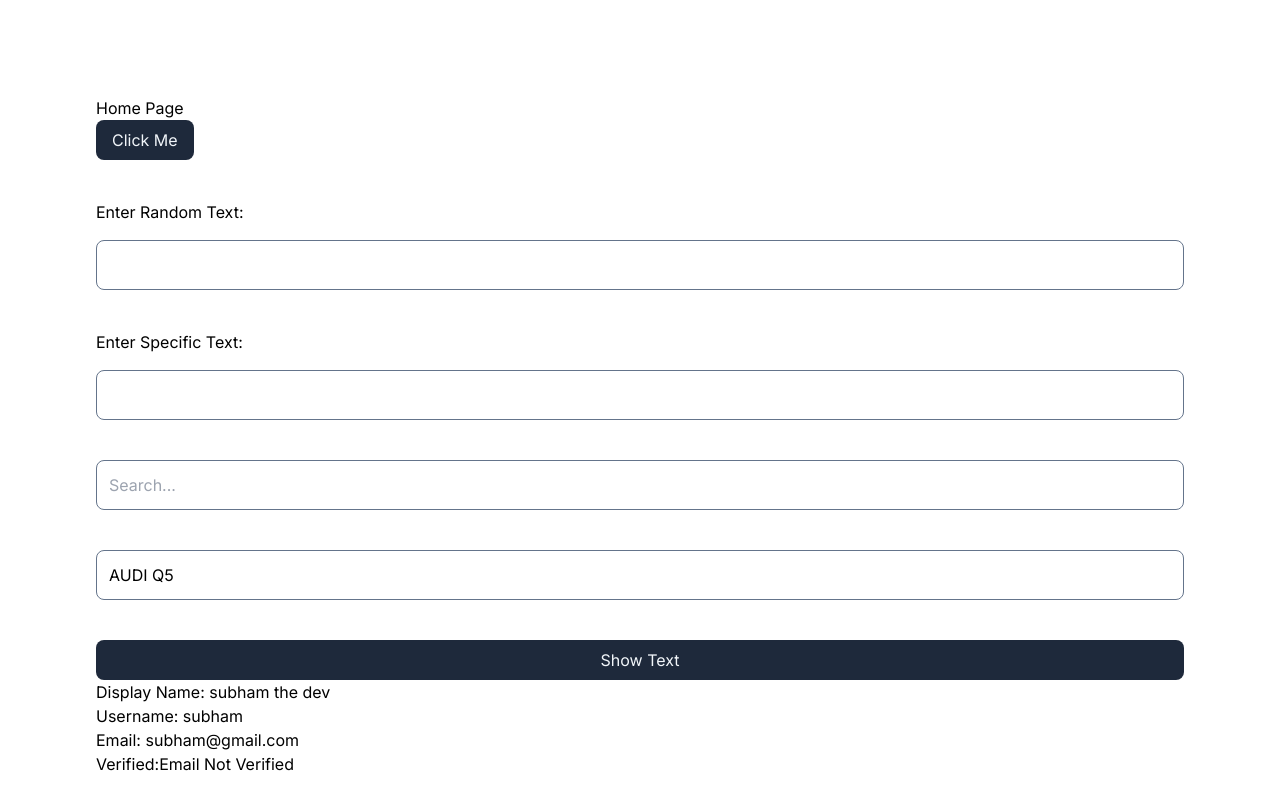
Home Page - Rendering › Behavior › should click on Show Text button and find new text
Check: the text "This is the text!" is not shown
Step 1. Click the button "Show Text" → (640, 660), box [96, 640, 1184, 680]
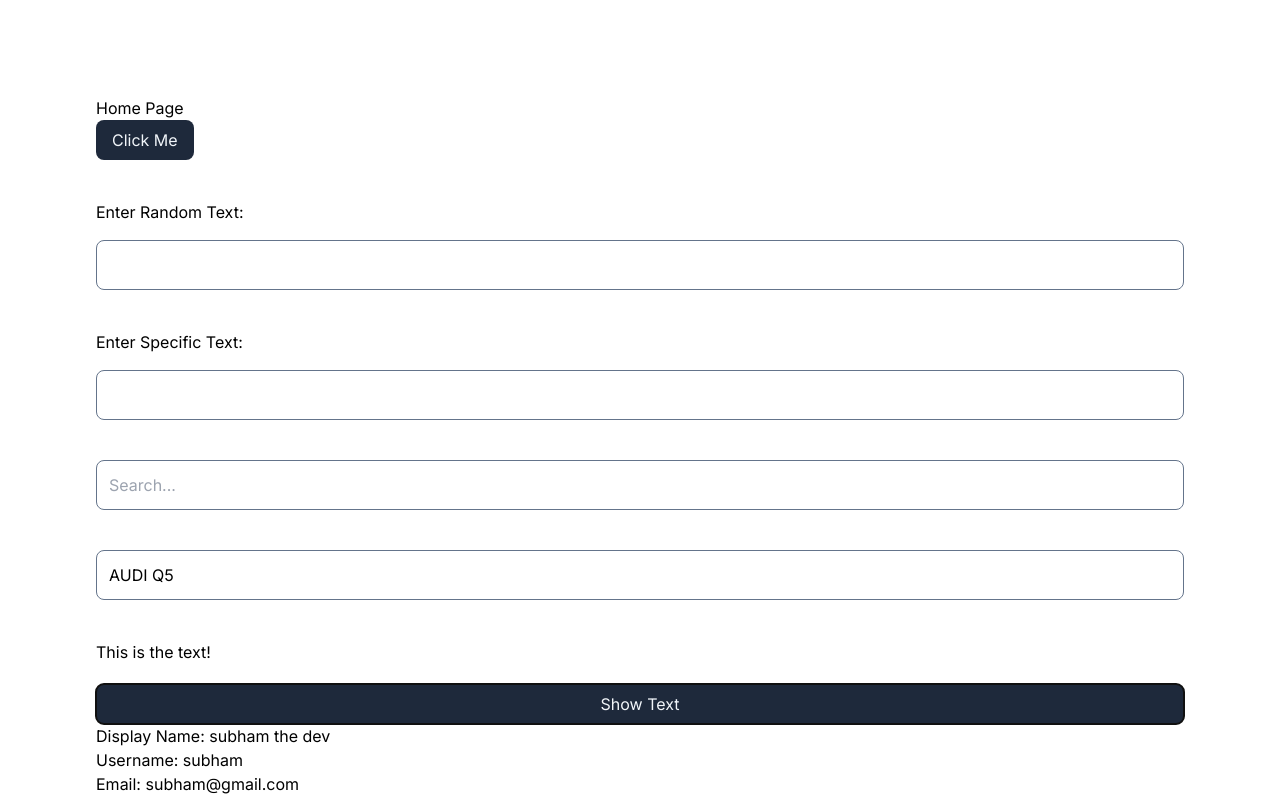
Check: the text "This is the text!" is shown, box [96, 642, 211, 662]
